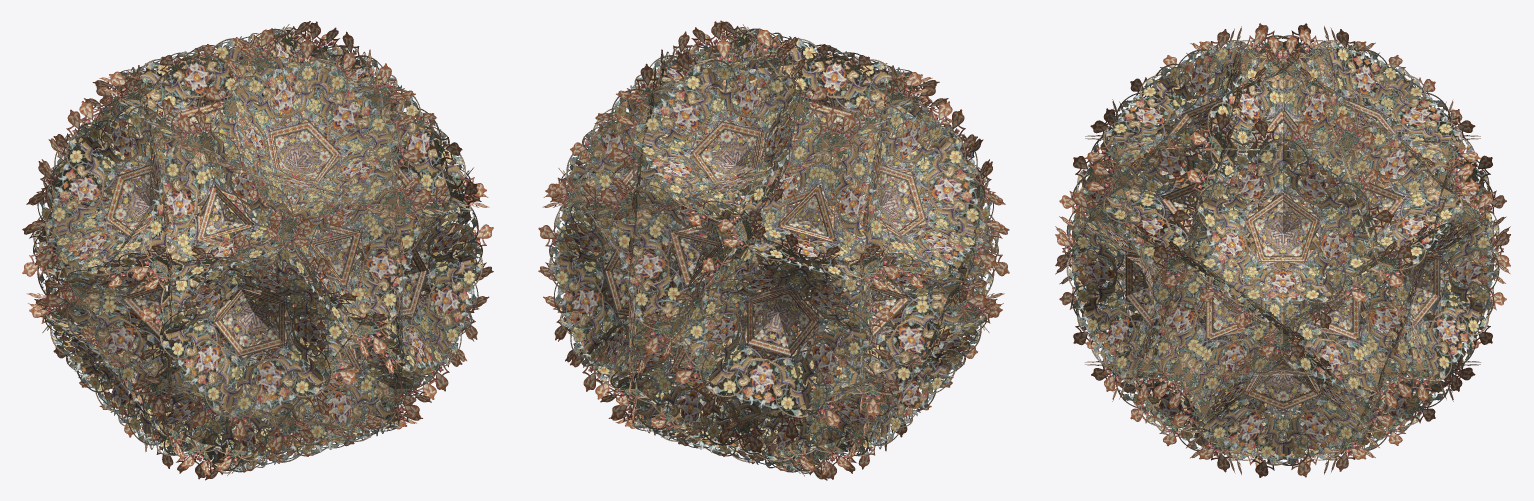
The model's file is GreatDodecicosahedron10.gltf.
3 views of the same model, side by side, from view 1: azimuth 30°, elevation 25°; view 2: azimuth 150°, elevation 25°; view 3: azimuth 270°, elevation 25° (orthographic). The views are drawn at different scales.
Parts seen in each view (by area): view 1: GreatDodecicosahedron; view 2: GreatDodecicosahedron; view 3: GreatDodecicosahedron.
Boxes of the visible parts, x1,y1,x2,y2 form: GreatDodecicosahedron: [22, 21, 493, 480]; GreatDodecicosahedron: [538, 20, 1009, 480]; GreatDodecicosahedron: [1055, 23, 1510, 477].
Bounding box in the file's own units: 2.24 × 2.24 × 2.24.
1 material, 1 textured.
